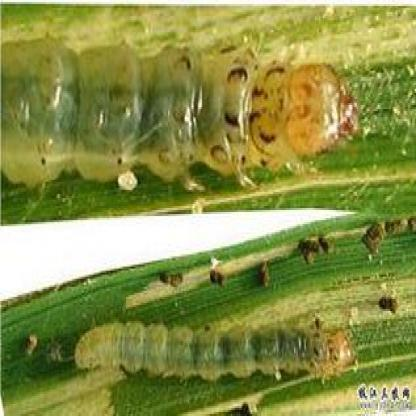leaf-folder: (5, 27, 368, 194), (79, 283, 358, 400)
